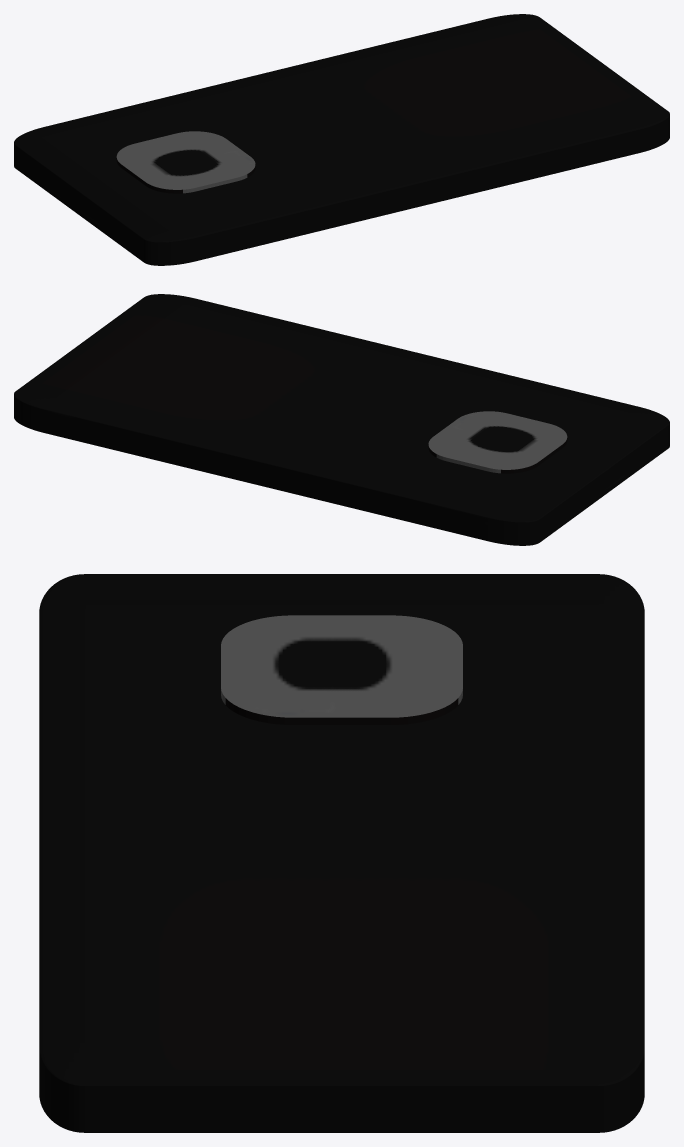
The model's file is phone.obj.
3 renders of one model, top to bottom at view 1: azimuth 30°, elevation 25°; view 2: azimuth 150°, elevation 25°; view 3: azimuth 270°, elevation 25°, orthographic. The views are drawn at different scales.
Visible parts, largest first — view 1: Cube; view 2: Cube; view 3: Cube.
Part boxes in pixels (x1,y1,x2,y2): Cube: [14, 14, 669, 265]; Cube: [14, 294, 669, 545]; Cube: [39, 574, 644, 1132].
Size of the model in its own units: 4 by 0.2269 by 2.
